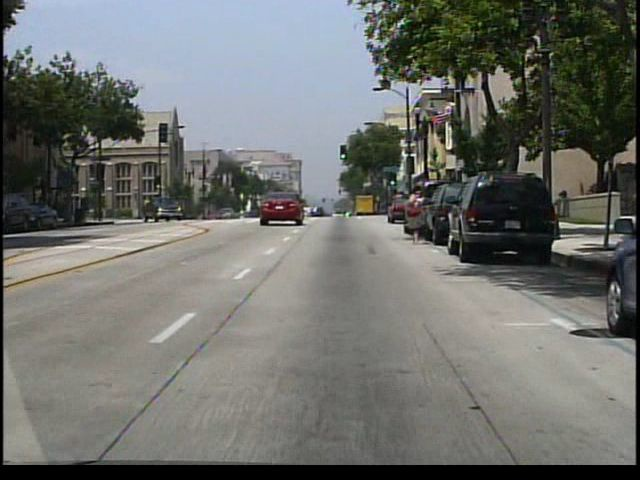person: (405, 182, 433, 244)
